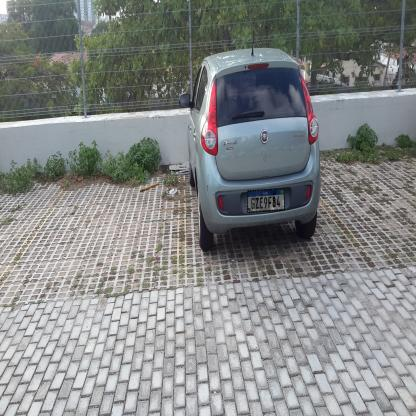PlacaM: (247, 188, 285, 213)
